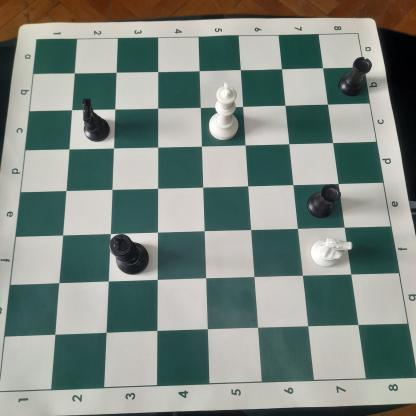black-king: (108, 231, 152, 277)
black-knight: (78, 94, 113, 143)
black-rook: (336, 54, 374, 98), (304, 182, 344, 220)
white-king: (207, 82, 241, 140)
white-knight: (306, 233, 354, 269)
